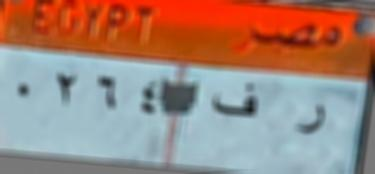0: (13, 78, 33, 108)
2: (52, 72, 80, 110)
4: (137, 78, 159, 122)
6: (96, 72, 120, 117)
faa: (209, 76, 260, 130)
raa: (291, 92, 332, 149)
